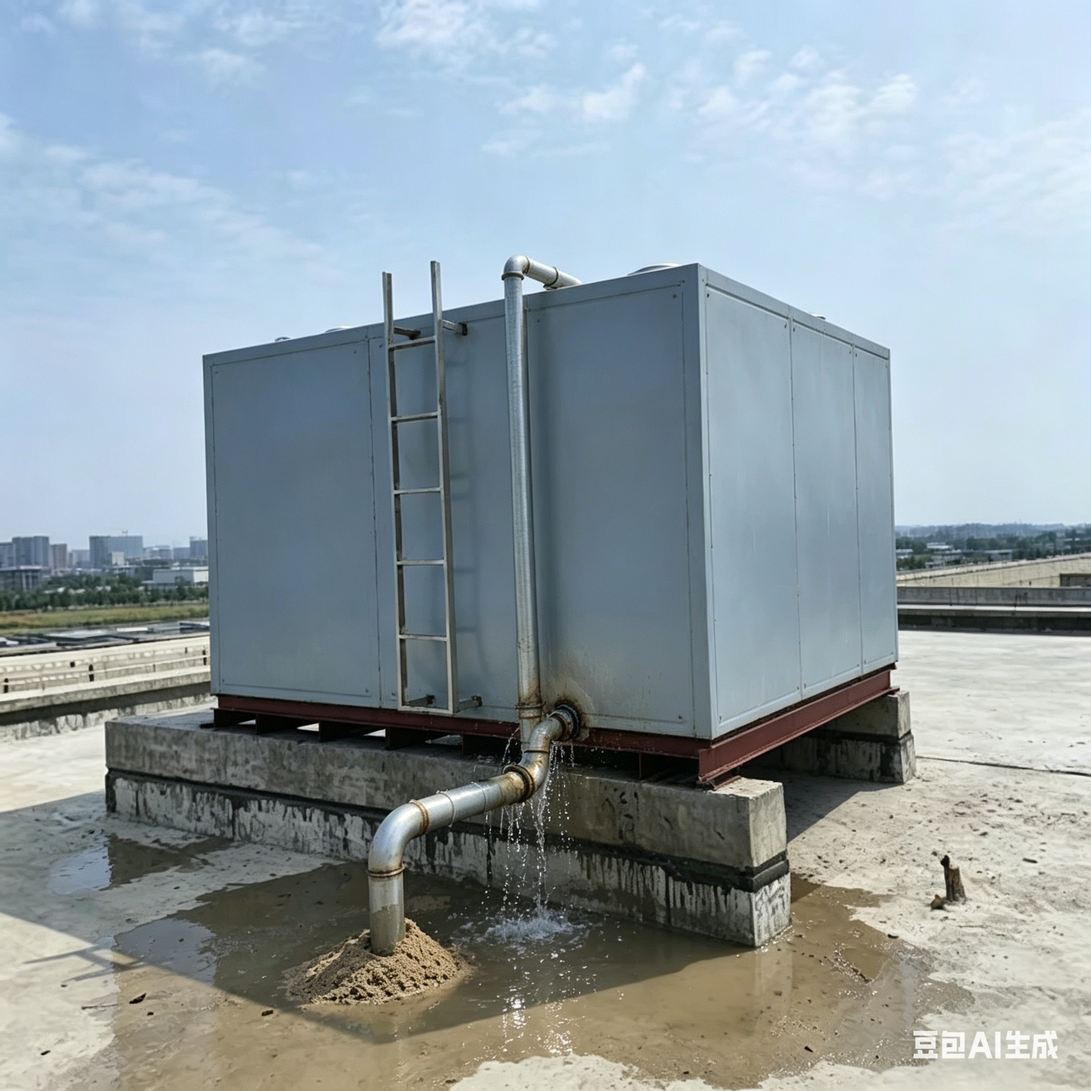Leakage: (116, 902, 483, 1091), (614, 892, 951, 1091), (497, 712, 596, 1059), (259, 852, 439, 896), (46, 836, 182, 880)
